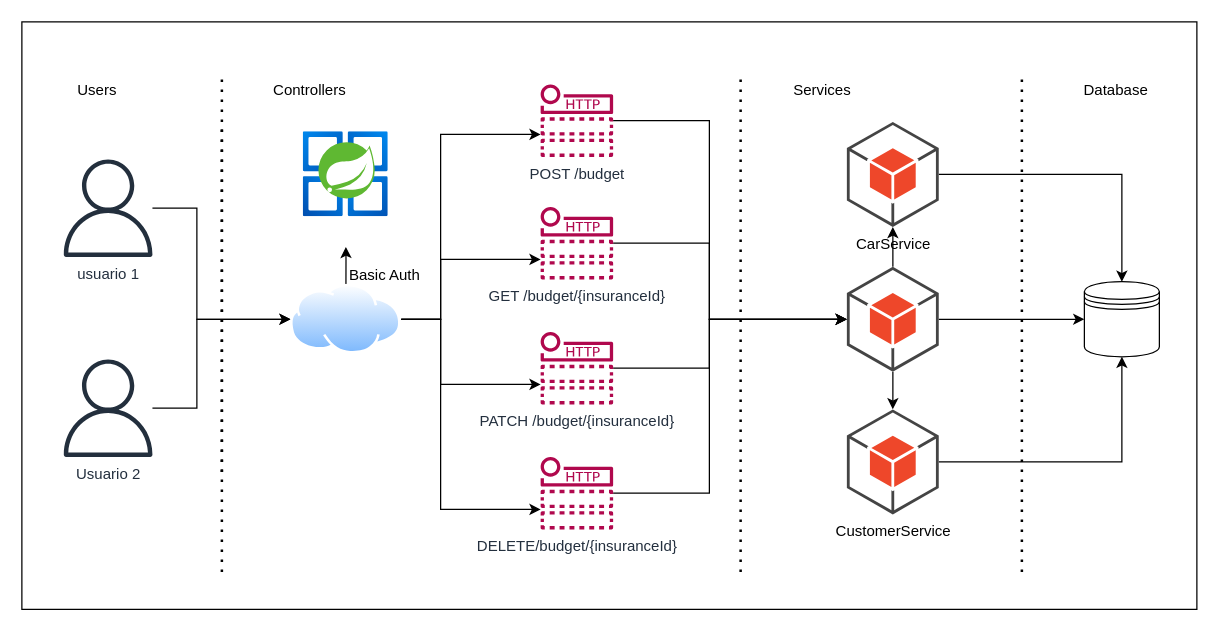
The diagram is 1219 pixels wide and 631 high, and some of its shapes have lost their labels. Each missing label, with the centre of its shape:
"API: /Insurence" belongs at (345,319).
"H2 Database" belongs at (1121,318).
"InsuranceService" belongs at (892,319).
"SpringSecurity" belongs at (345,173).
